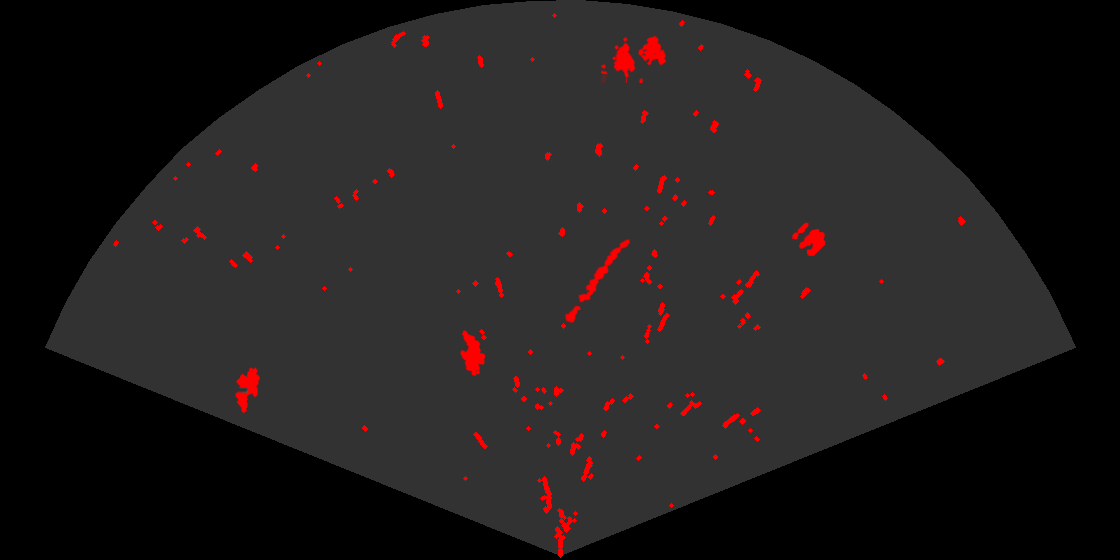AUV: (459, 329, 487, 378), (234, 366, 261, 415)
ball: (790, 221, 827, 258)
cage: (601, 34, 668, 83)
chain: (563, 237, 632, 325)
